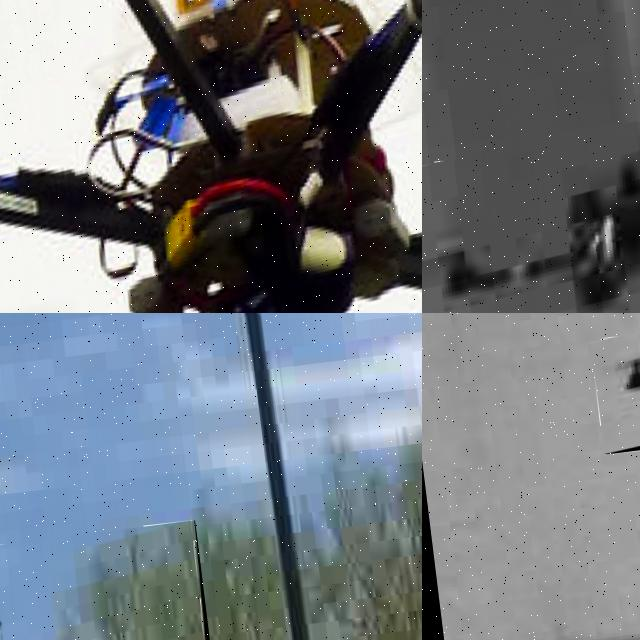drone: (0, 0, 422, 313), (422, 115, 640, 313), (0, 519, 239, 640)
